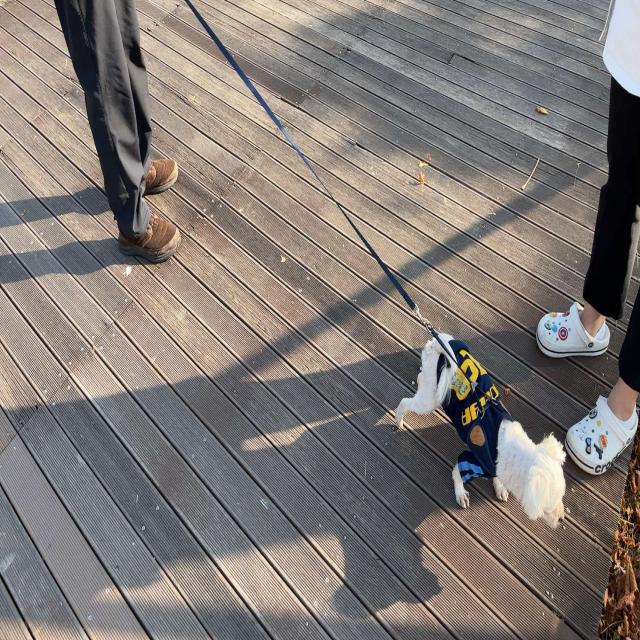Leashed_Dog: (56, 0, 568, 532)
